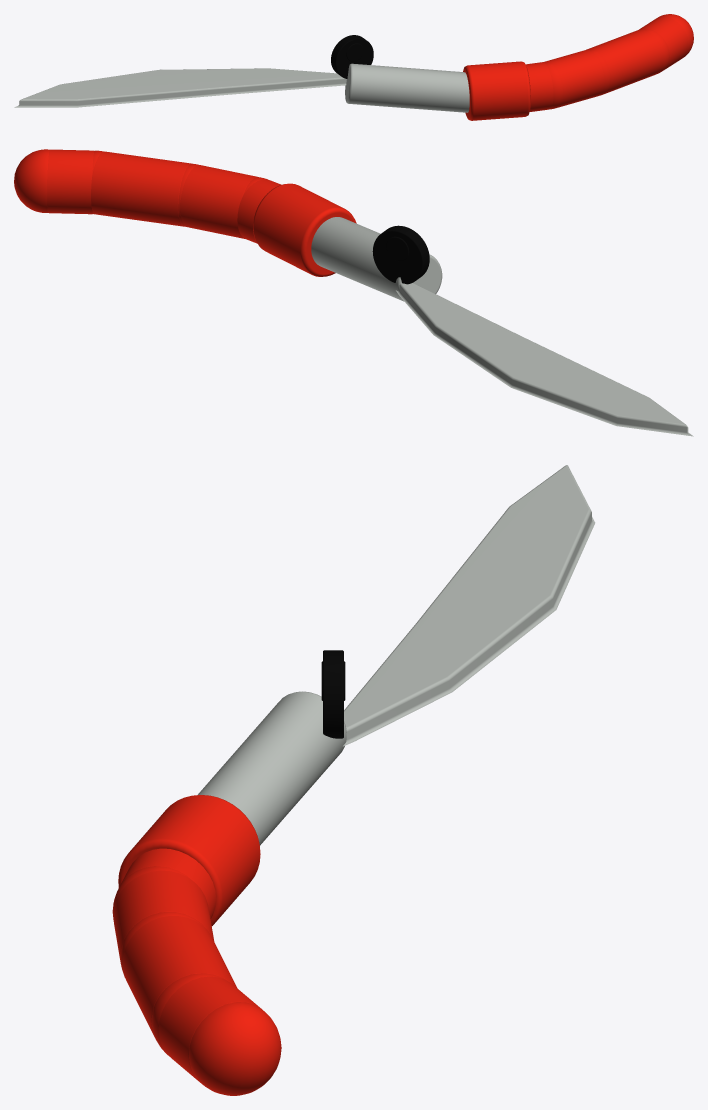
Rendered from Secateur_Fixed_Half.obj.
3 renders of one model, top to bottom at view 1: azimuth 30°, elevation 25°; view 2: azimuth 150°, elevation 25°; view 3: azimuth 270°, elevation 25°, orthographic. The views are drawn at different scales.
Visible parts, largest first — view 1: SM_Secateur_Lower_Red_Handle_Fixed, SM_Secateur_Lower_Blade_Fixed, SM_Secateur_Lower_Metal_Neck, SM_Secateur_Lower_Red_Transition, SM_Secateur_Largee_Screw_Pivot, SM_Secateur_Screw_Center; view 2: SM_Secateur_Lower_Red_Handle_Fixed, SM_Secateur_Lower_Blade_Fixed, SM_Secateur_Lower_Red_Transition, SM_Secateur_Lower_Metal_Neck, SM_Secateur_Largee_Screw_Pivot, SM_Secateur_Screw_Center; view 3: SM_Secateur_Lower_Blade_Fixed, SM_Secateur_Lower_Red_Handle_Fixed, SM_Secateur_Lower_Metal_Neck, SM_Secateur_Lower_Red_Transition, SM_Secateur_Largee_Screw_Pivot.
Part boxes in pixels (x1,y1,x2,y2): SM_Secateur_Lower_Red_Handle_Fixed: (525,14,693,111); SM_Secateur_Lower_Blade_Fixed: (14,68,346,107); SM_Secateur_Lower_Metal_Neck: (345,63,469,112); SM_Secateur_Lower_Red_Transition: (463,61,530,120); SM_Secateur_Largee_Screw_Pivot: (331,35,373,78); SM_Secateur_Screw_Center: (346,43,363,61); SM_Secateur_Lower_Red_Handle_Fixed: (14,149,281,243); SM_Secateur_Lower_Blade_Fixed: (396,283,693,436); SM_Secateur_Lower_Red_Transition: (253,183,356,276); SM_Secateur_Lower_Metal_Neck: (311,217,442,301); SM_Secateur_Largee_Screw_Pivot: (372,225,429,284); SM_Secateur_Screw_Center: (386,236,409,261); SM_Secateur_Lower_Blade_Fixed: (343,465,595,746); SM_Secateur_Lower_Red_Handle_Fixed: (112,848,281,1095); SM_Secateur_Lower_Metal_Neck: (197,691,346,845); SM_Secateur_Lower_Red_Transition: (118,795,260,926); SM_Secateur_Largee_Screw_Pivot: (323,650,343,738).
Size of the model in its own units: 3.57 by 0.455 by 1.26.
